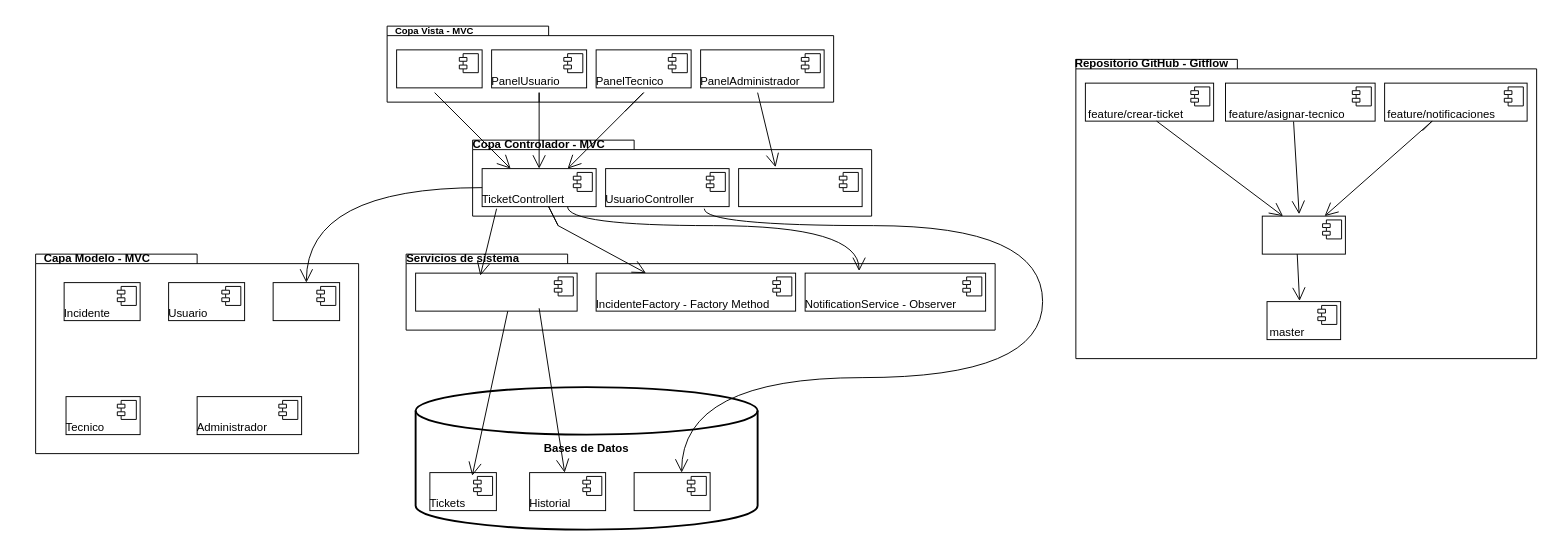
Some shapes in this 1553 by 546 pixel diagram are drawn without their labels. The shapes that lost their labels are listed below. From the top down, each one's centre as x and y in pixels, then its label:
(x=439, y=68): TicketView
(x=800, y=187): ReporteController
(x=1303, y=234): develop
(x=306, y=301): Ticket
(x=496, y=291): TicketManager - Singleton
(x=671, y=491): Usuarios
